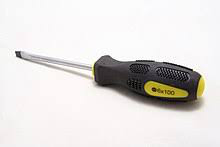screwdriver: (11, 36, 210, 112)
